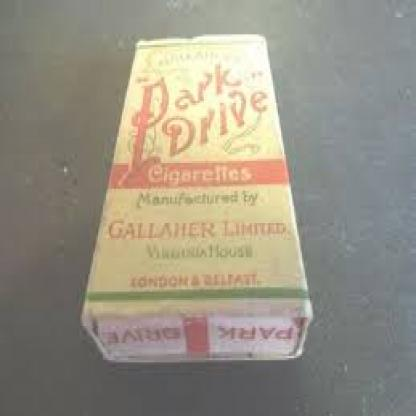bungkus rokok: (74, 15, 313, 373)
